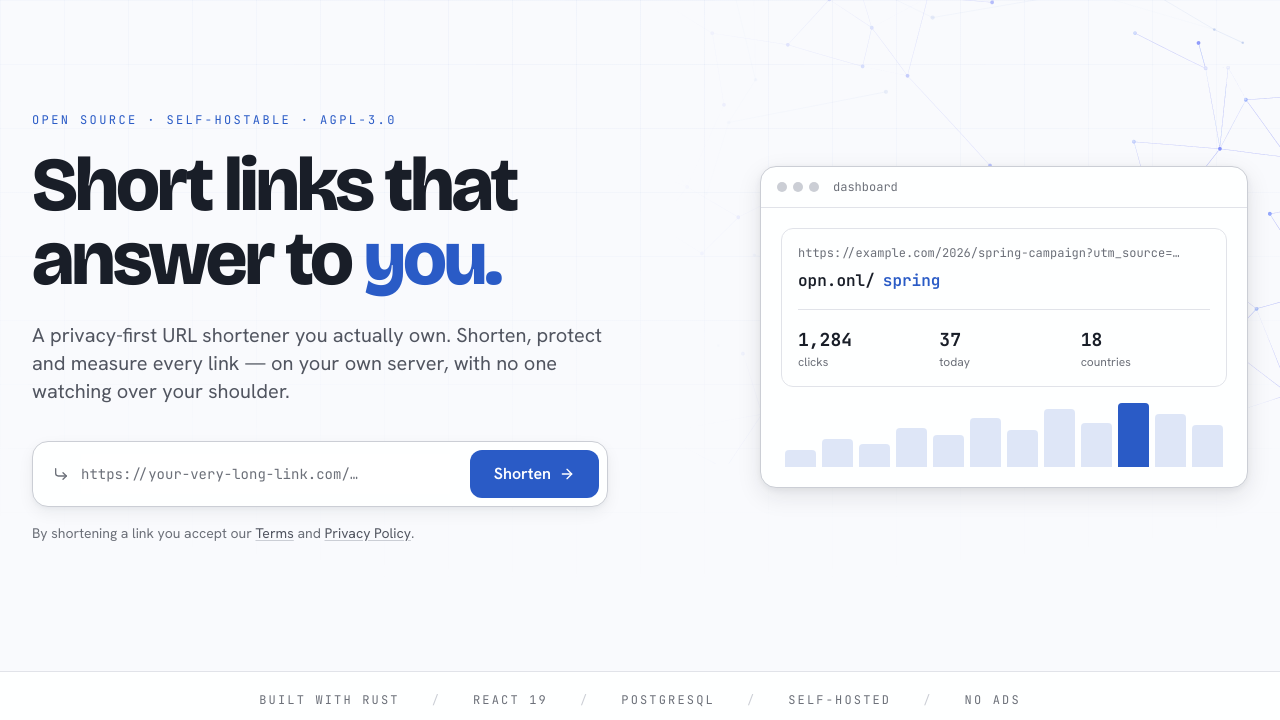
Scenario: Home Page › shows error on API failure
Type "https://example.com/test" into the field with placeholder "https://your-very-long-link.com/…" at (265,474), box [81,454,450,494]
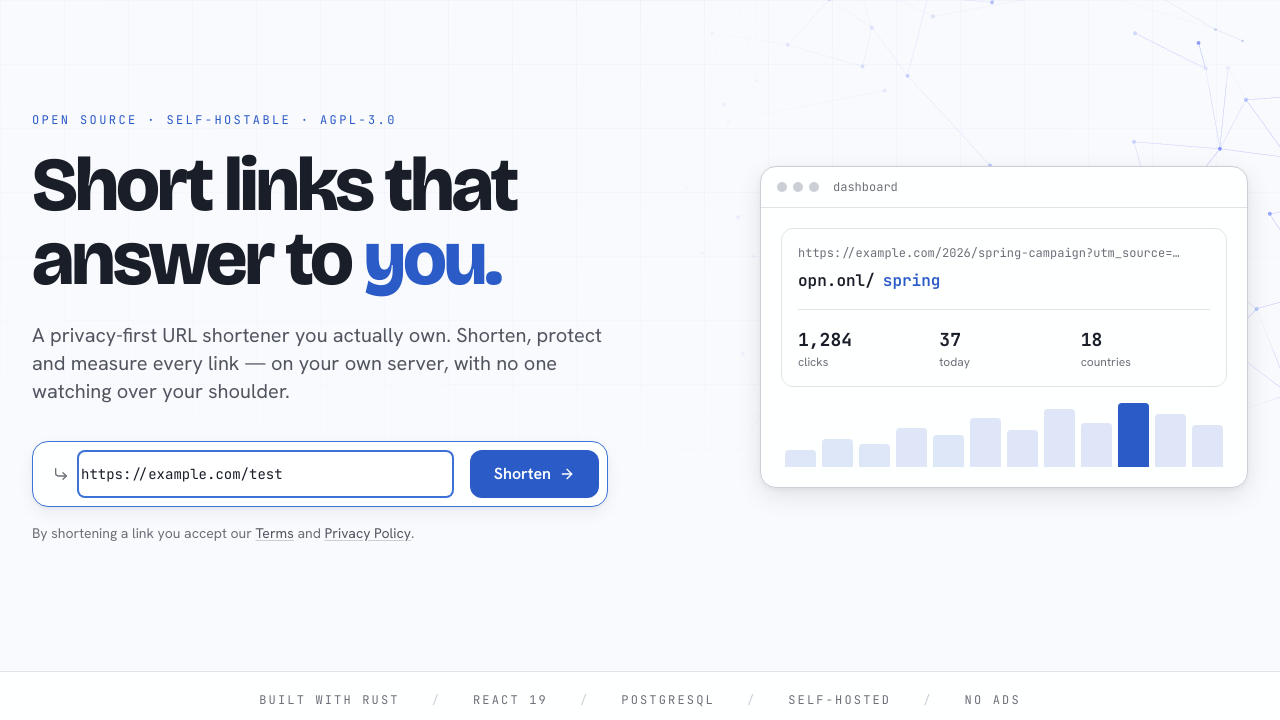
Click the button "Shorten" at (534,474), box [470,450,599,498]
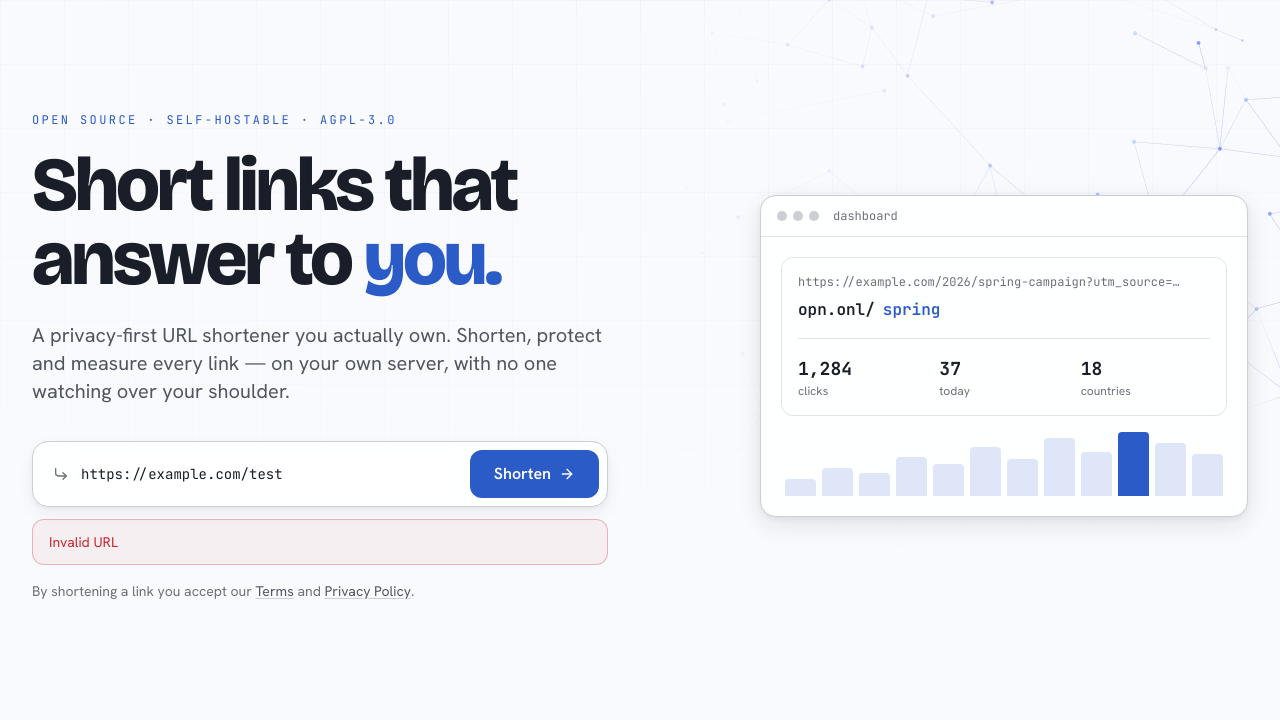
Expected: the text "Invalid URL" is shown, [32,519,608,565]
